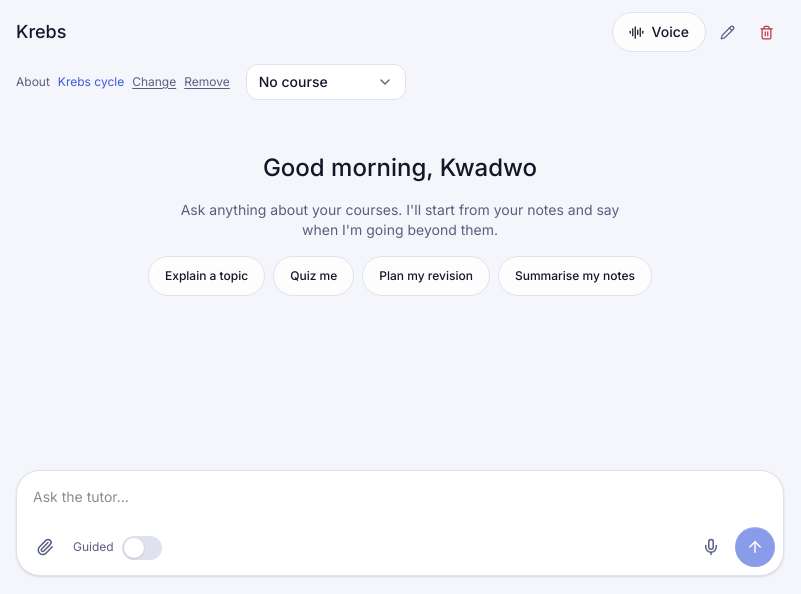
when each message was sent › shows neither for a message that has no time yet
In the text box named "Message": (404,501) top-left (33, 479), bottom-right (775, 523), type "Why?"
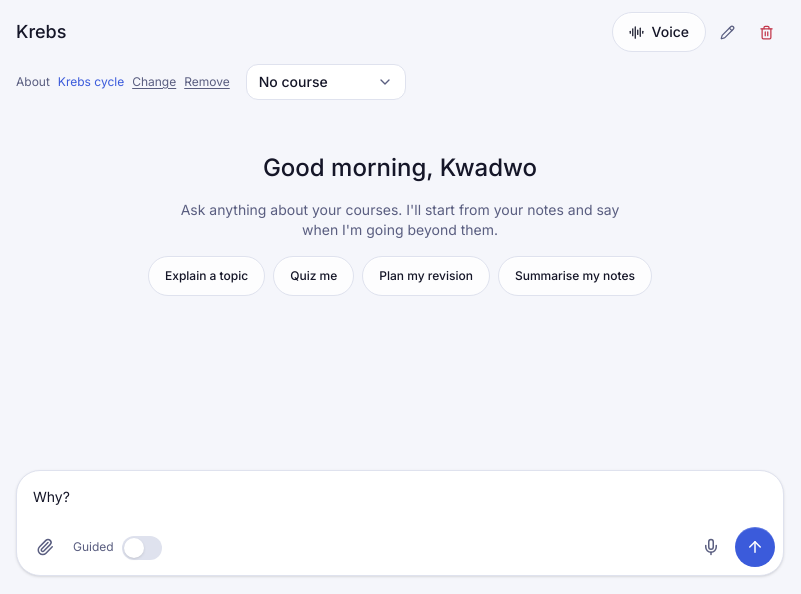
Click the button named "Send": (755,547) top-left (735, 527), bottom-right (775, 567)
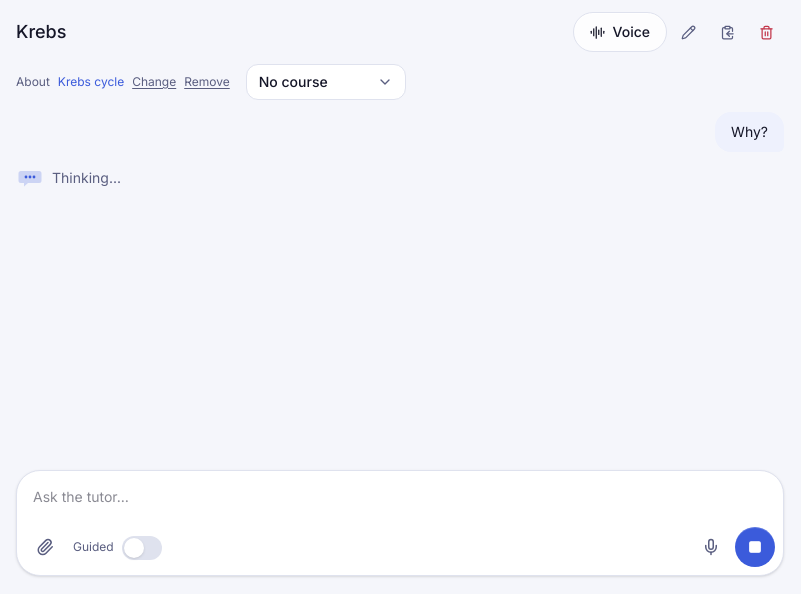
Result: the heading "Good morning, Kwadwo" is gone
